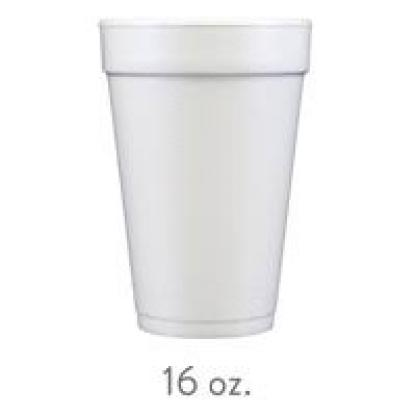paper: (98, 19, 308, 341)
